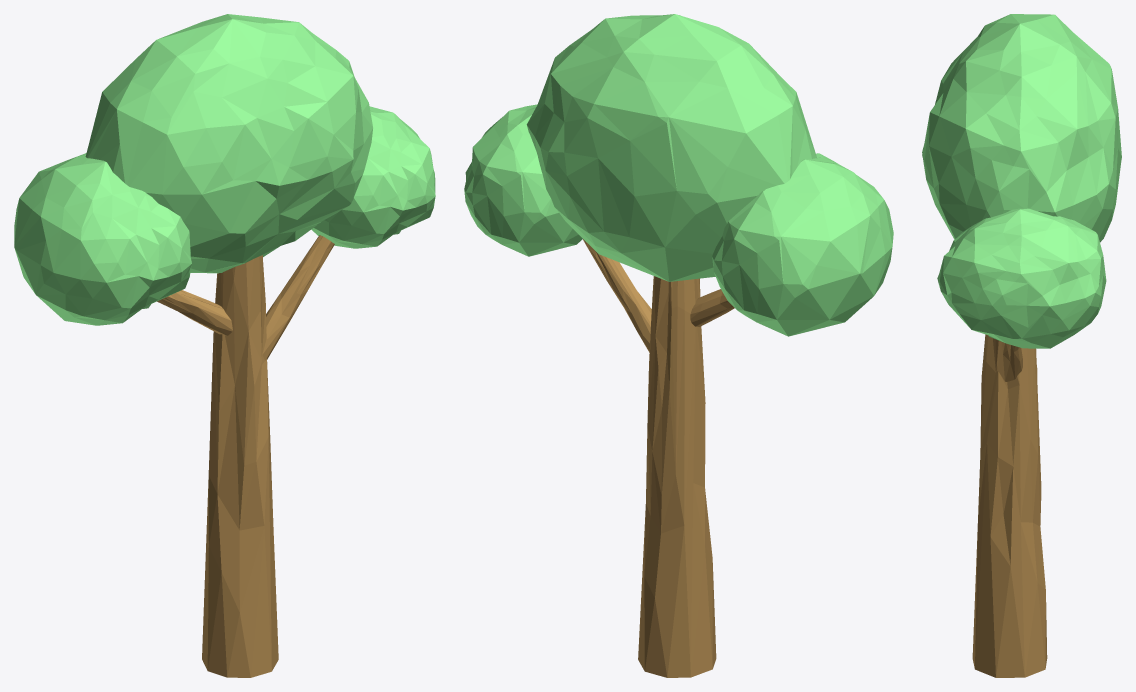
File: pohon4.fbx
3 views of the same model, side by side, from view 1: azimuth 30°, elevation 25°; view 2: azimuth 150°, elevation 25°; view 3: azimuth 270°, elevation 25° (orthographic). The views are drawn at different scales.
Visible parts, largest first — view 1: Cylinder.013; view 2: Cylinder.013; view 3: Cylinder.013.
Boxes of the visible parts, x1=… form: Cylinder.013: x1=14, y1=14, x2=435, y2=677; Cylinder.013: x1=464, y1=14, x2=893, y2=677; Cylinder.013: x1=922, y1=14, x2=1121, y2=677.
Bounding box in the file's own units: 406 × 1428 × 912.
